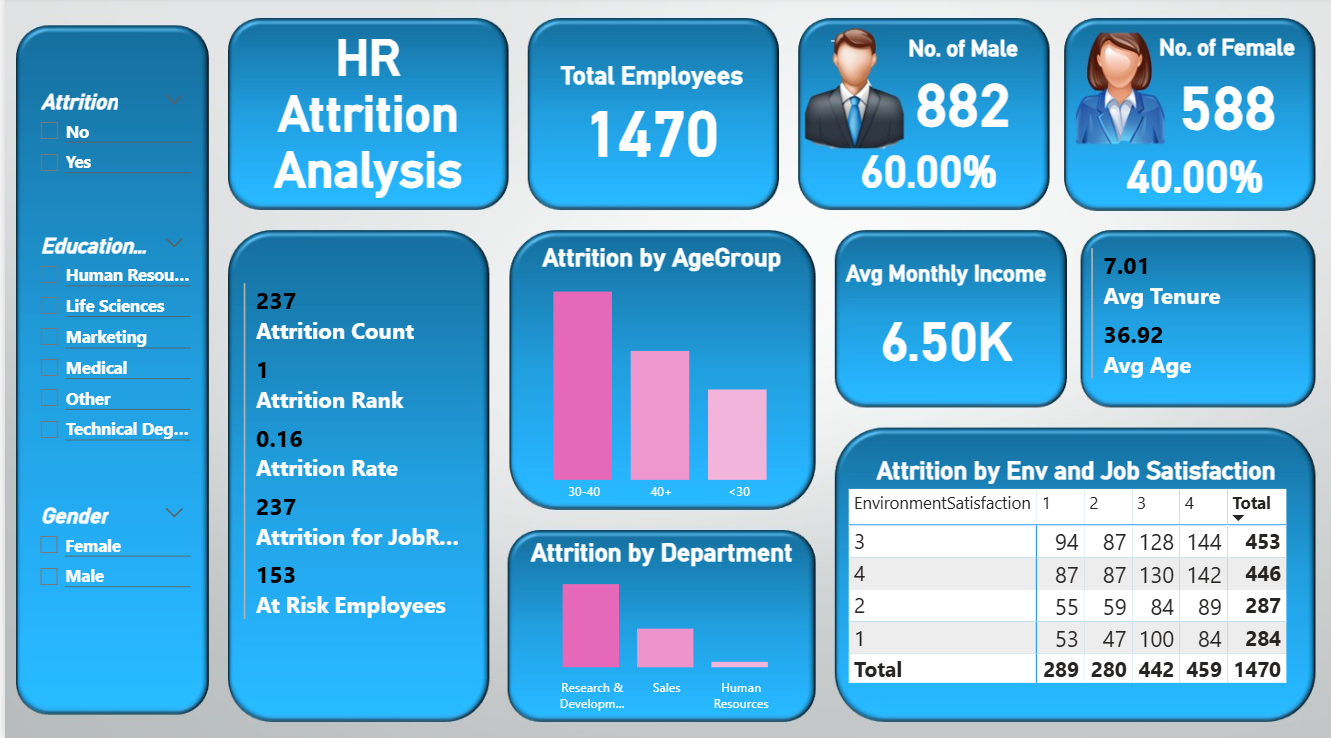

The page's visual inventory and layout, read from the dashboard file:
{"tool":"powerbi","page":{"name":"Page 1","canvas":[1280,720],"ordinal":0},"visuals":[{"type":"card","title":"No. of Female","fields":{"Values":["Measure.Female"]},"box":[1100,35.7,158.6,104.3],"z":0,"group":"g1"},{"type":"card","title":"Total Employees ","fields":{"Values":["Measure.TotalEmployees"]},"box":[518.8,61.2,211.2,97.5],"z":0},{"type":"cardVisual","fields":{"Data":["Measure.Male %"]},"box":[791.4,119.1,200,78],"z":0,"group":"g2"},{"type":"card","title":"No. of Male ","fields":{"Values":["Measure.Male"]},"box":[838.5,37.1,172.9,95.5],"z":1000,"group":"g2"},{"type":"slicer","fields":{"Values":["IBM HR Attrition Analytics Dataset.Attrition"]},"box":[21.4,84.3,162.9,97.1],"z":1000},{"type":"cardVisual","fields":{"Data":["Measure.Female %"]},"box":[1048.6,124.3,200,82.9],"z":1000,"group":"g1"},{"type":"clusteredColumnChart","title":"Attrition by Department","fields":{"Category":["IBM HR Attrition Analytics Dataset.Department"],"Y":["CountNonNull(IBM HR Attrition Analytics Dataset.Attrition)"]},"box":[494.3,522.9,278.6,175.7],"z":2000},{"type":"clusteredColumnChart","title":"Attrition by AgeGroup","fields":{"Category":["IBM HR Attrition Analytics Dataset.AgeGroup"],"Y":["CountNonNull(IBM HR Attrition Analytics Dataset.Attrition)"]},"box":[494.3,237.1,278.6,258.6],"z":3000},{"type":"pivotTable","title":"Attrition by Env and Job Satisfaction","fields":{"Rows":["IBM HR Attrition Analytics Dataset.EnvironmentSatisfaction"],"Values":["CountNonNull(IBM HR Attrition Analytics Dataset.Attrition)"],"Columns":["IBM HR Attrition Analytics Dataset.JobSatisfaction"]},"box":[810,442.9,448.6,265.7],"z":4000},{"type":"cardVisual","title":"Avg Monthly Income","fields":{"Data":["Measure.AvgMonthlyIncome"]},"box":[805.9,254.6,205.1,114.6],"z":5000},{"type":"multiRowCard","fields":{"Values":["Measure.Avg Tenure","Measure.Avg Age"]},"box":[1043.6,237.7,205.1,136.3],"z":6000},{"type":"multiRowCard","fields":{"Values":["Measure.Attrition Count","Measure.Attrition Rank","Measure.Attrition Rate","Measure.Attrition for JobRole","Measure.At Risk Employees"]},"box":[225.7,271.4,222.9,425.7],"z":7000},{"type":"group","id":"g1","title":"Group 1","box":[1048.6,35.7,210,171.4],"z":8000},{"type":"textbox","box":[225.7,25.7,250,181.4],"z":9000},{"type":"group","id":"g2","title":"Group 2","box":[791.4,37.1,220,160],"z":10000},{"type":"slicer","fields":{"Values":["IBM HR Attrition Analytics Dataset.EducationField"]},"box":[21.4,222.9,162.9,241.4],"z":11000},{"type":"slicer","fields":{"Values":["IBM HR Attrition Analytics Dataset.Gender"]},"box":[21.4,484.3,162.9,94.3],"z":12000}]}

Visuals, with their boxes in screenshot pixels (x1, y1, x2, y2), scaled from the page's 1280x720 canvas onto the 1331x738 screenshot:
"No. of Female" card: detection(1144, 37, 1309, 144)
"Total Employees " card: detection(539, 63, 759, 163)
cardVisual - Measure.Male %: detection(823, 122, 1031, 202)
"No. of Male " card: detection(872, 38, 1052, 136)
slicer - IBM HR Attrition Analytics Dataset.Attrition: detection(22, 86, 192, 186)
cardVisual - Measure.Female %: detection(1090, 127, 1298, 212)
"Attrition by Department" clusteredColumnChart: detection(514, 536, 804, 716)
"Attrition by AgeGroup" clusteredColumnChart: detection(514, 243, 804, 508)
"Attrition by Env and Job Satisfaction" pivotTable: detection(842, 454, 1309, 726)
"Avg Monthly Income" cardVisual: detection(838, 261, 1051, 378)
multiRowCard - Measure.Avg Tenure x Measure.Avg Age: detection(1085, 244, 1298, 383)
multiRowCard - Measure.Attrition Count x Measure.Attrition Rank: detection(235, 278, 466, 715)
"Group 1" group: detection(1090, 37, 1309, 212)
textbox: detection(235, 26, 495, 212)
"Group 2" group: detection(823, 38, 1052, 202)
slicer - IBM HR Attrition Analytics Dataset.EducationField: detection(22, 228, 192, 476)
slicer - IBM HR Attrition Analytics Dataset.Gender: detection(22, 496, 192, 593)
